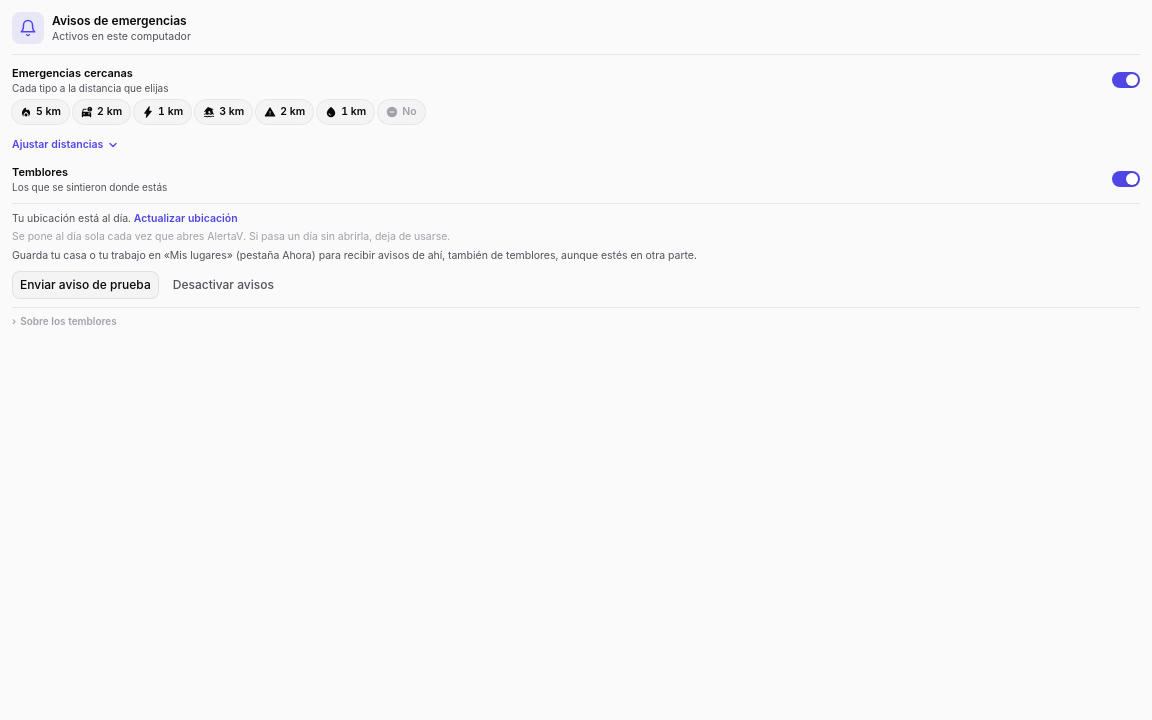
NotificationPanel › tocar una ficha de distancia abre el editor (§D)
Click the button with aria-label "Incendios: 5 km" at (40, 112), box [12,100,69,124]
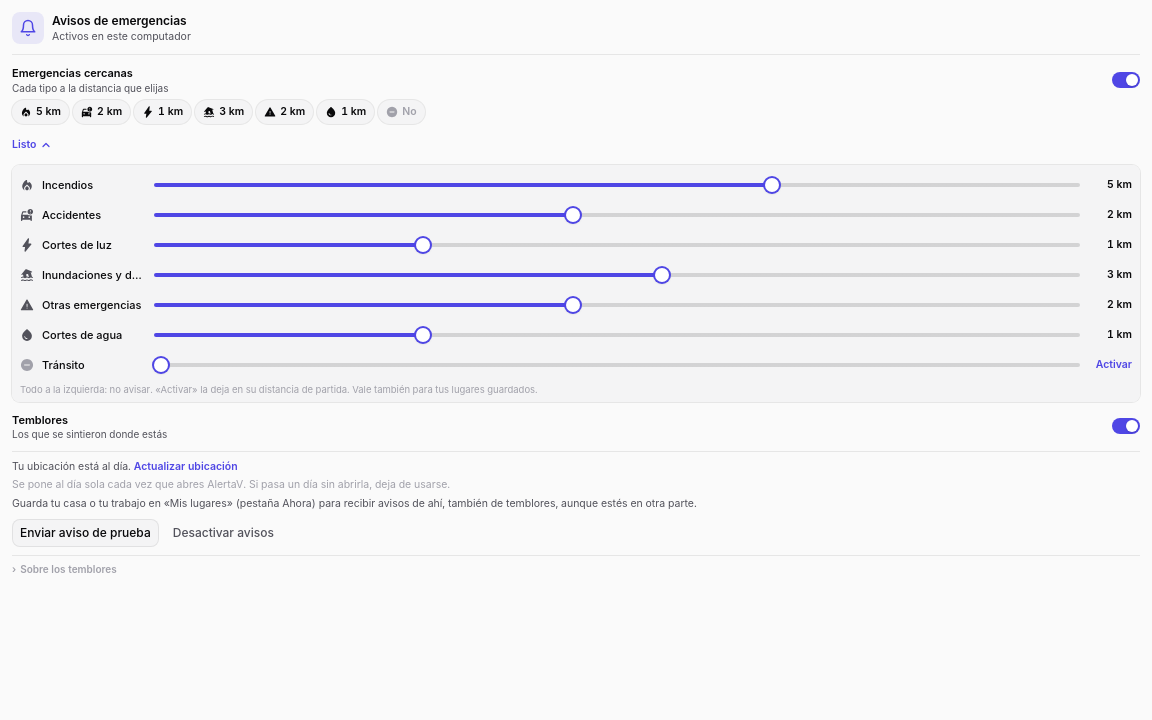
Now the number of sliders is 7
Now the button "Listo" is expanded, box [12,137,52,153]
